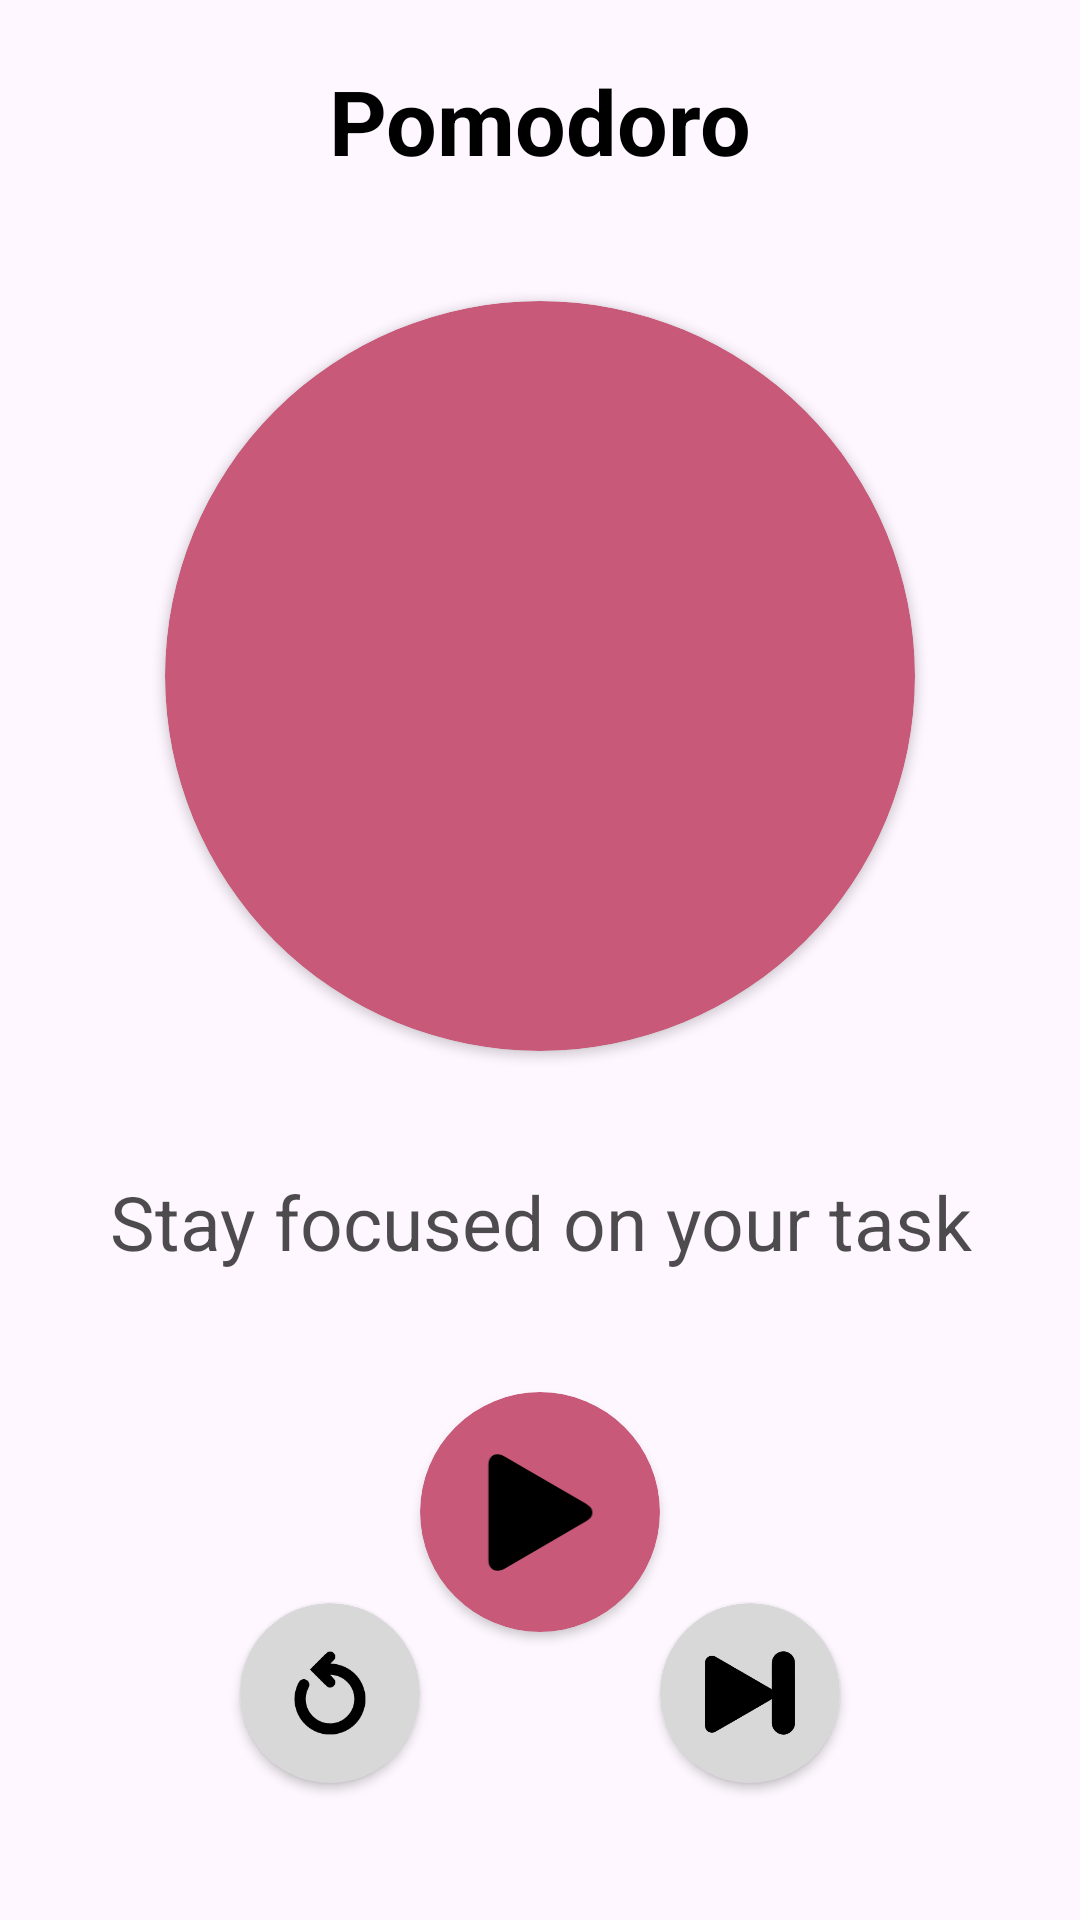

Icon click points for this 1080*1920 phone screenshot, format (x,y):
next: (750,1693)
restart: (330,1693)
start: (540,1512)
